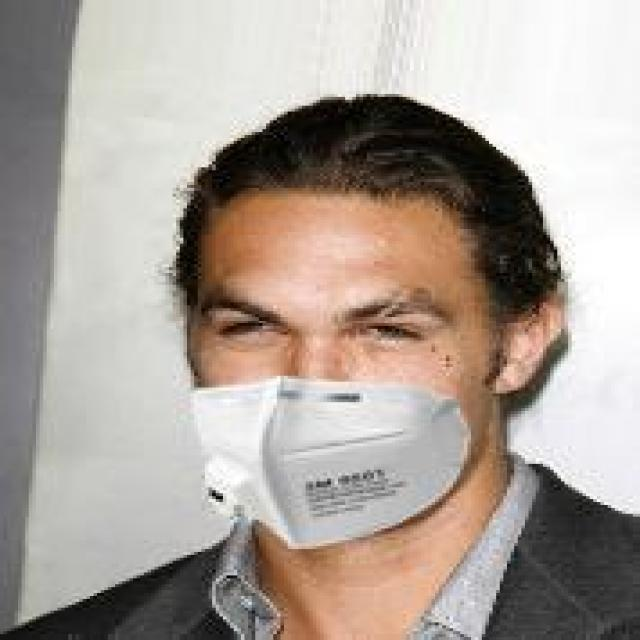mask: (151, 94, 593, 564)
